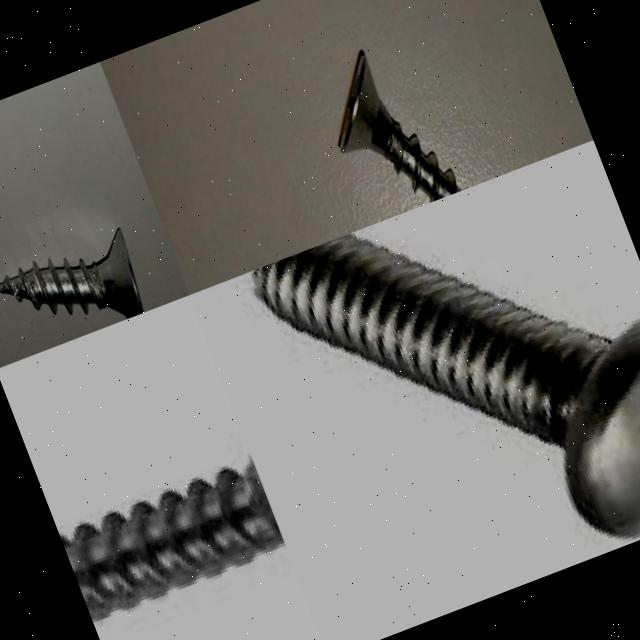Screw: (248, 232, 640, 537), (58, 452, 286, 620), (339, 51, 462, 202), (0, 230, 144, 319)
